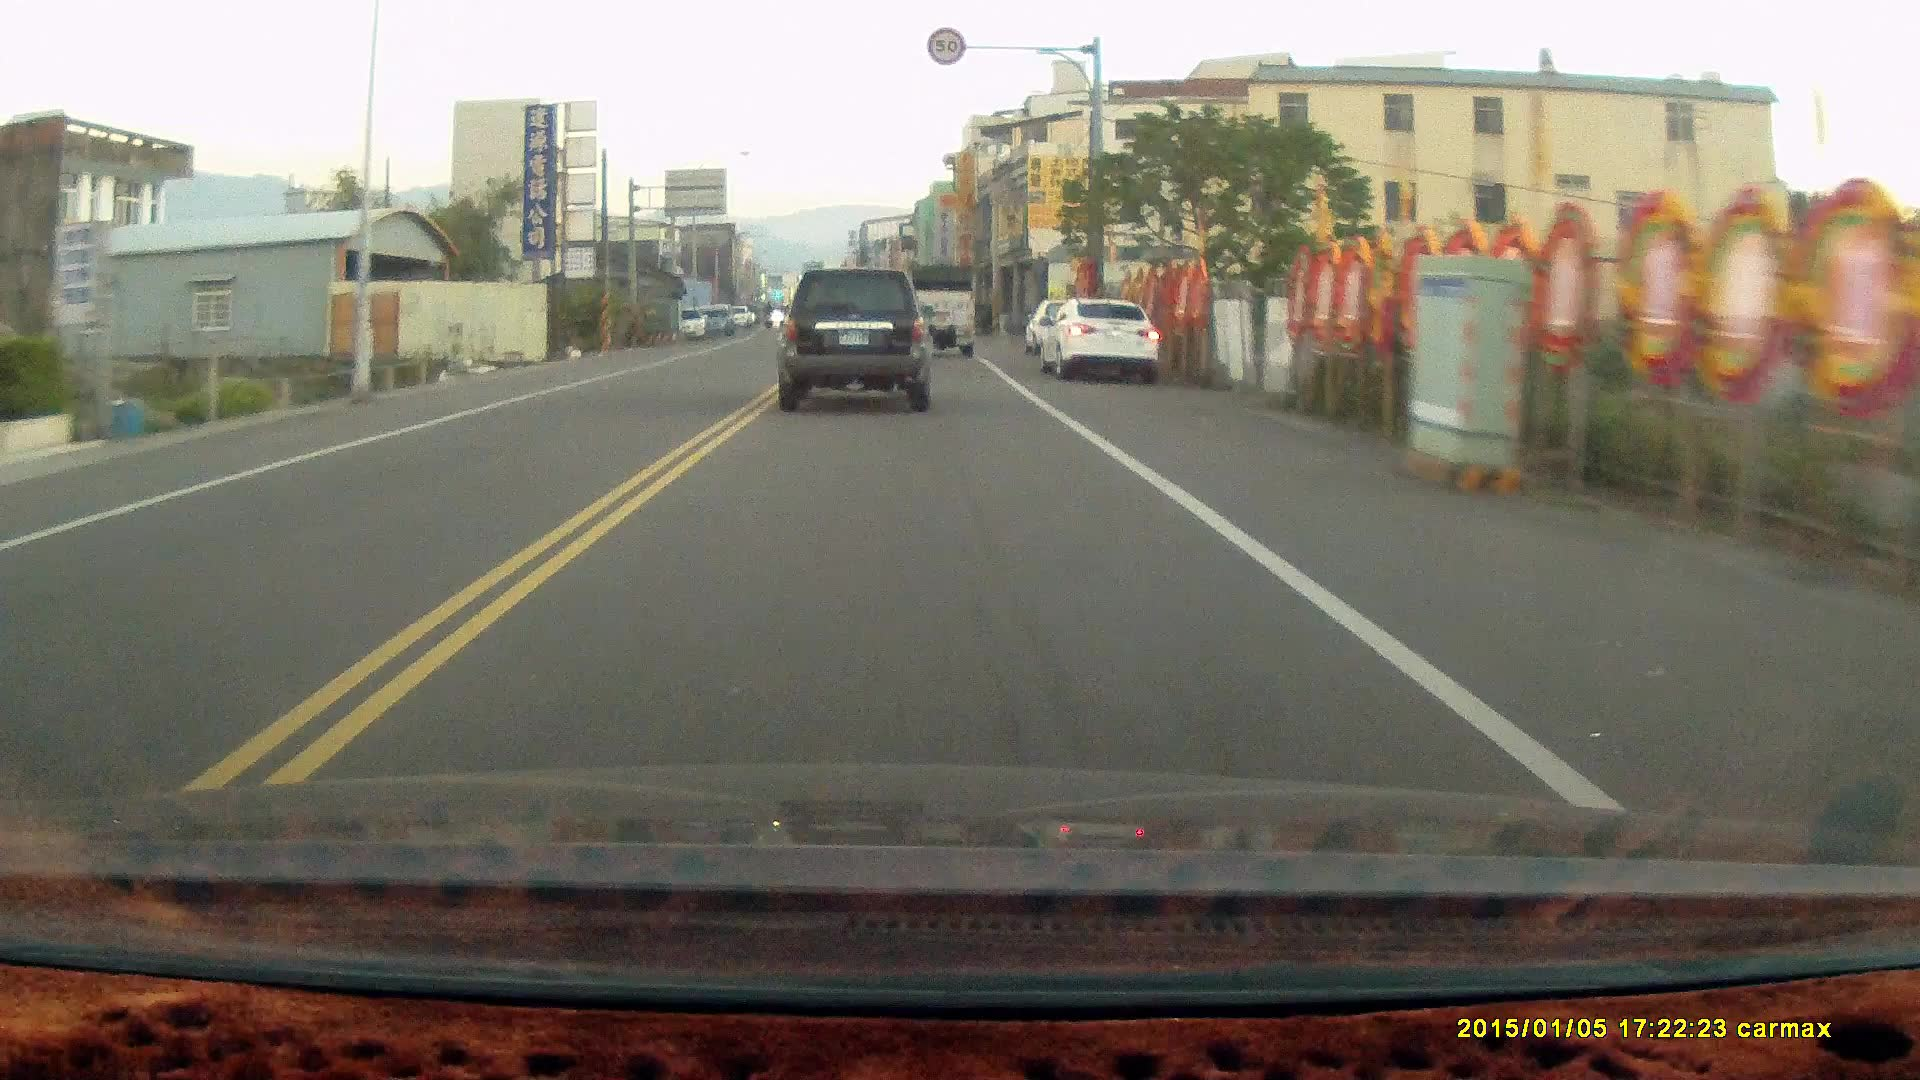vehicle: (775, 260, 935, 407), (1044, 295, 1160, 382), (902, 265, 982, 359)
